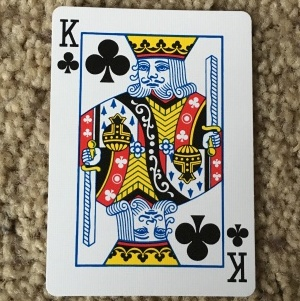card: (44, 4, 256, 297)
